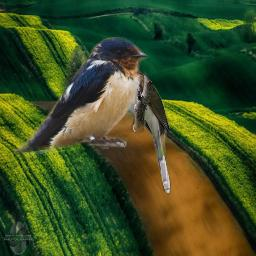Cuckoo: (97, 57, 171, 195)
Swallow: (14, 36, 149, 155)
